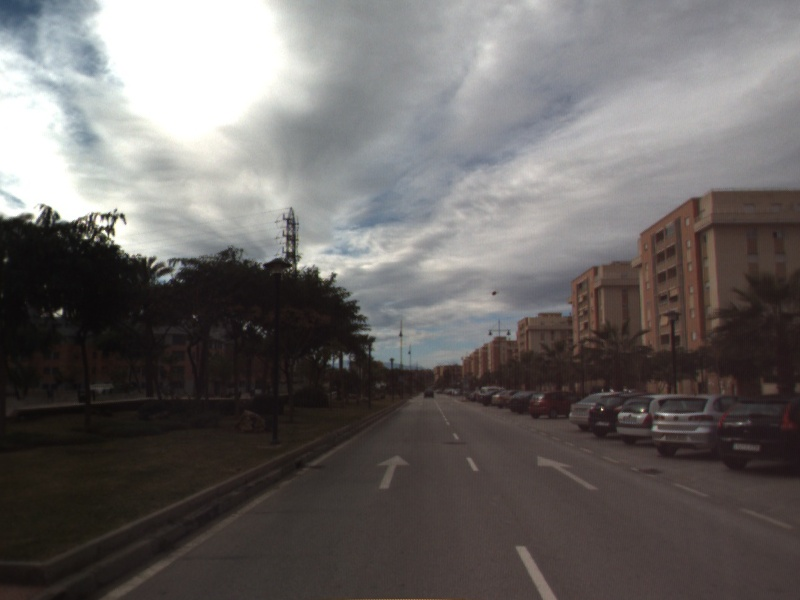STRAIGHT: (535, 454, 600, 492), (375, 453, 412, 491)
